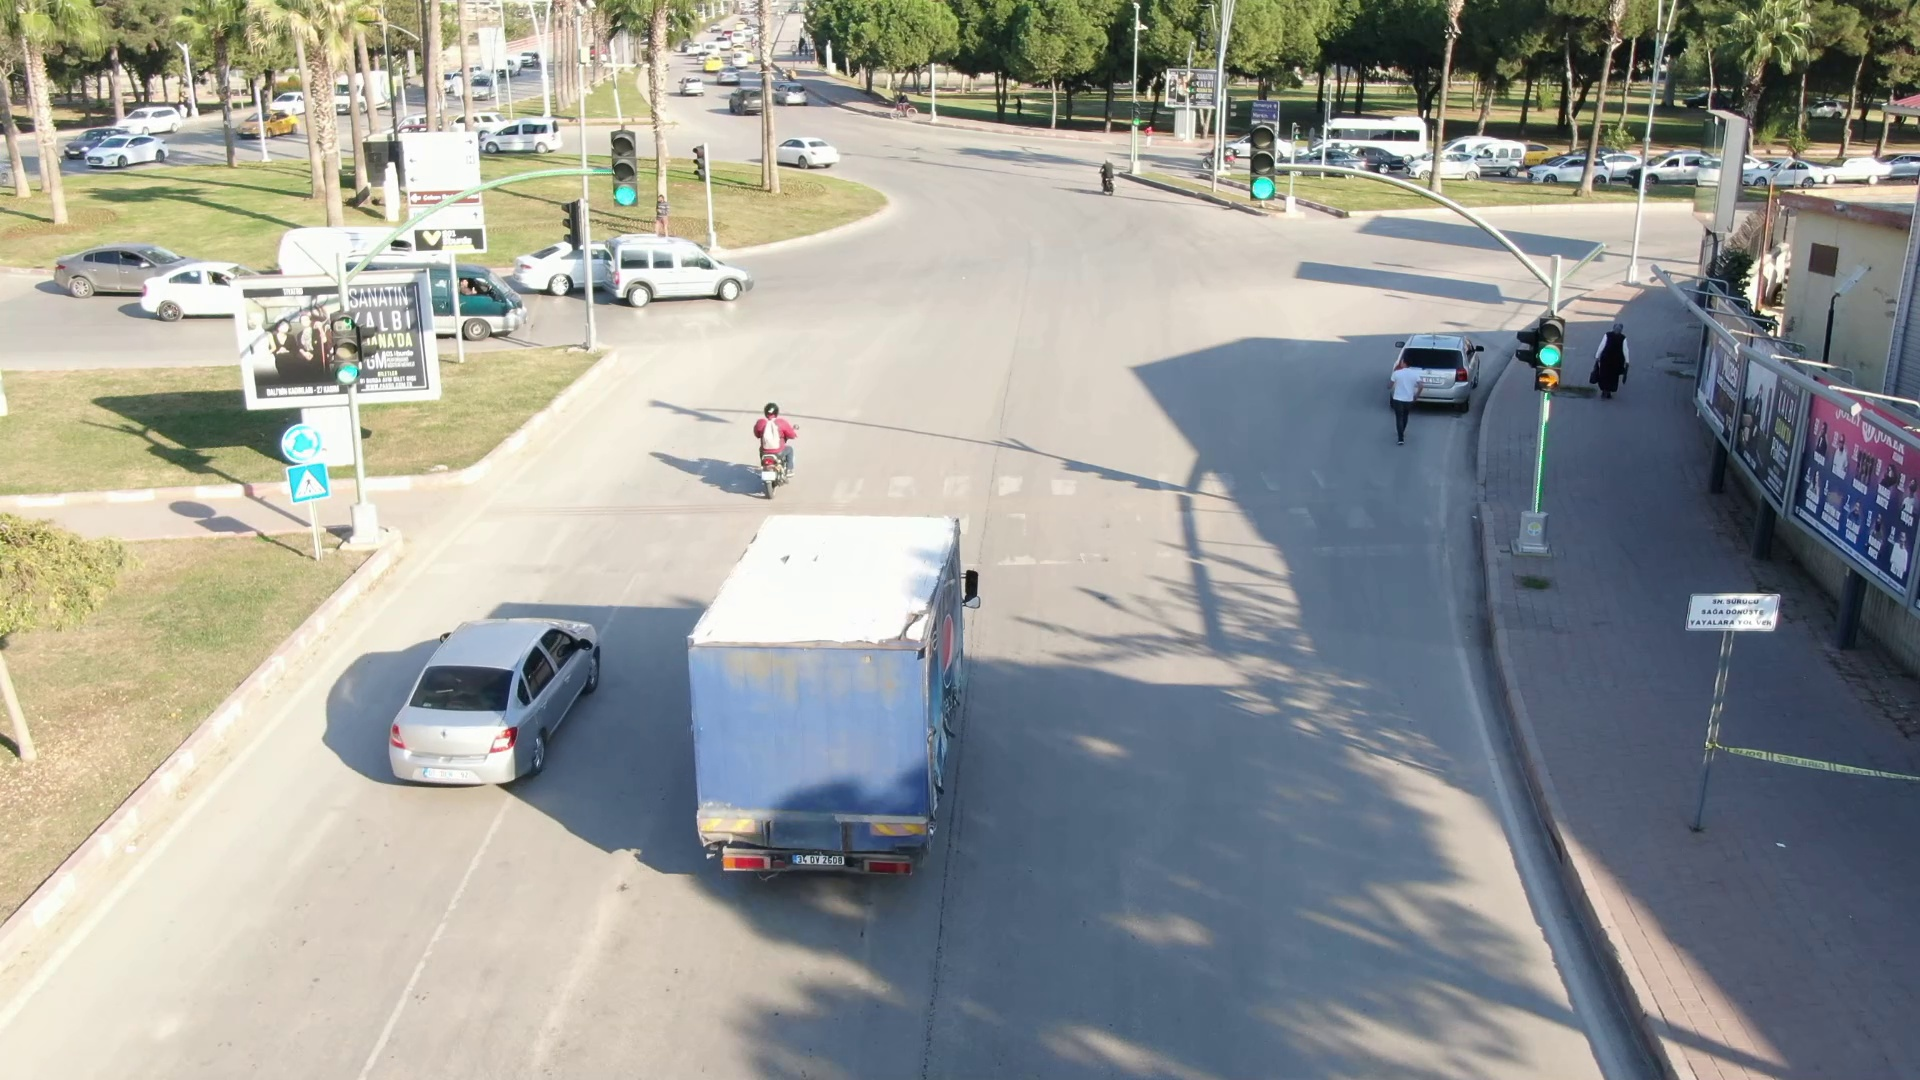car: (384, 582, 616, 800), (598, 231, 755, 309), (51, 235, 205, 305), (82, 126, 179, 169), (477, 113, 568, 157), (1524, 152, 1622, 189), (775, 125, 840, 171), (773, 78, 811, 108), (672, 73, 708, 98)
person: (746, 397, 809, 478), (1383, 351, 1432, 446), (1585, 312, 1632, 406)
